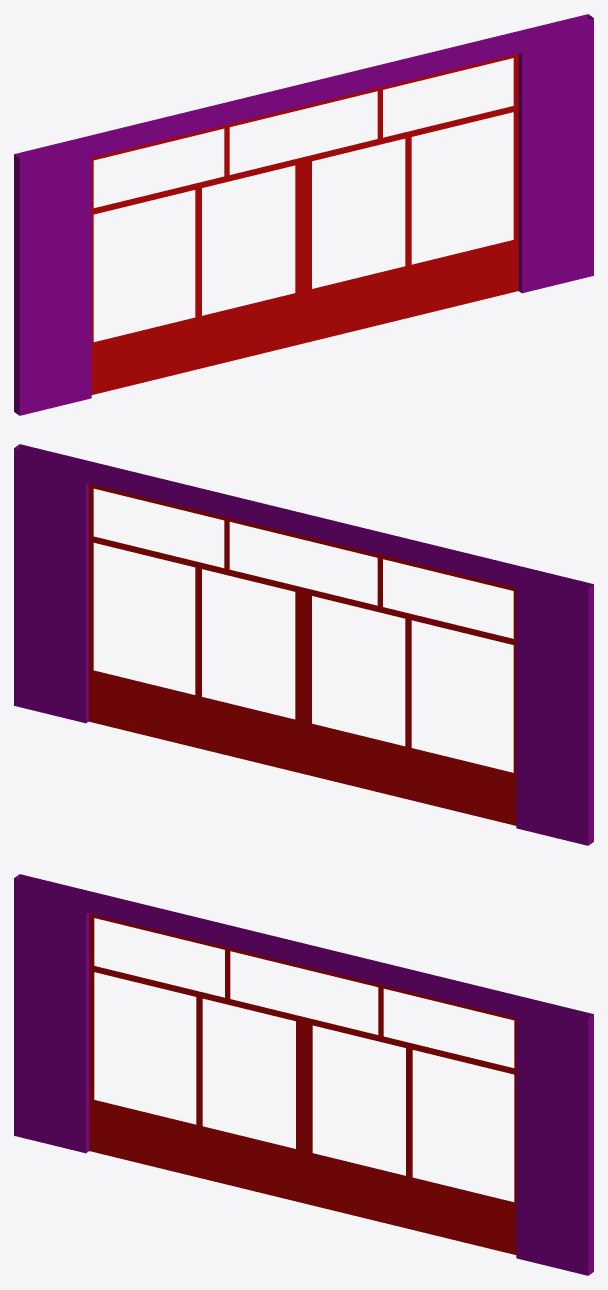
The model's file is inside_wall_bigdoor.FBX.
The picture shows the model from 3 angles, top to bottom: view 1: azimuth 30°, elevation 25°; view 2: azimuth 150°, elevation 25°; view 3: azimuth 330°, elevation 25°; orthographic projection.
Visible parts, largest first — view 1: wall; view 2: wall; view 3: wall.
Boxes of the visible parts, x1=… form: wall: x1=14, y1=14, x2=593, y2=415; wall: x1=14, y1=444, x2=593, y2=845; wall: x1=14, y1=874, x2=593, y2=1275.
Size of the model in its own units: 7 by 0.12 by 3.
